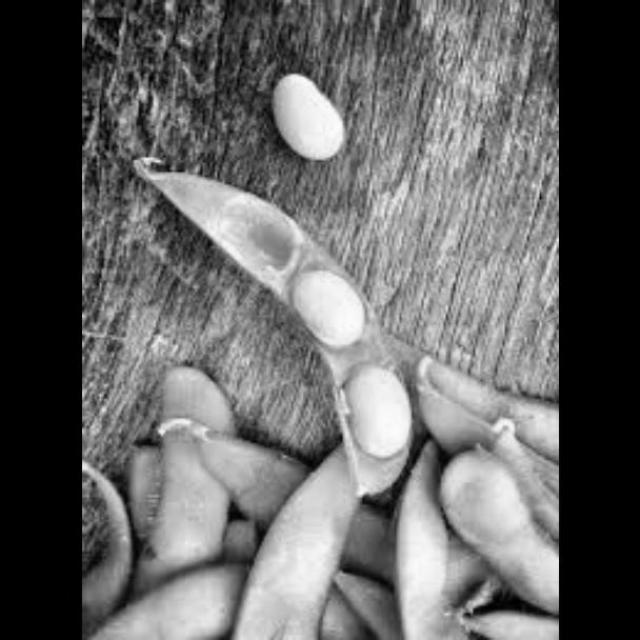dau van: (82, 158, 560, 640), (250, 228, 422, 479), (238, 52, 362, 186)
